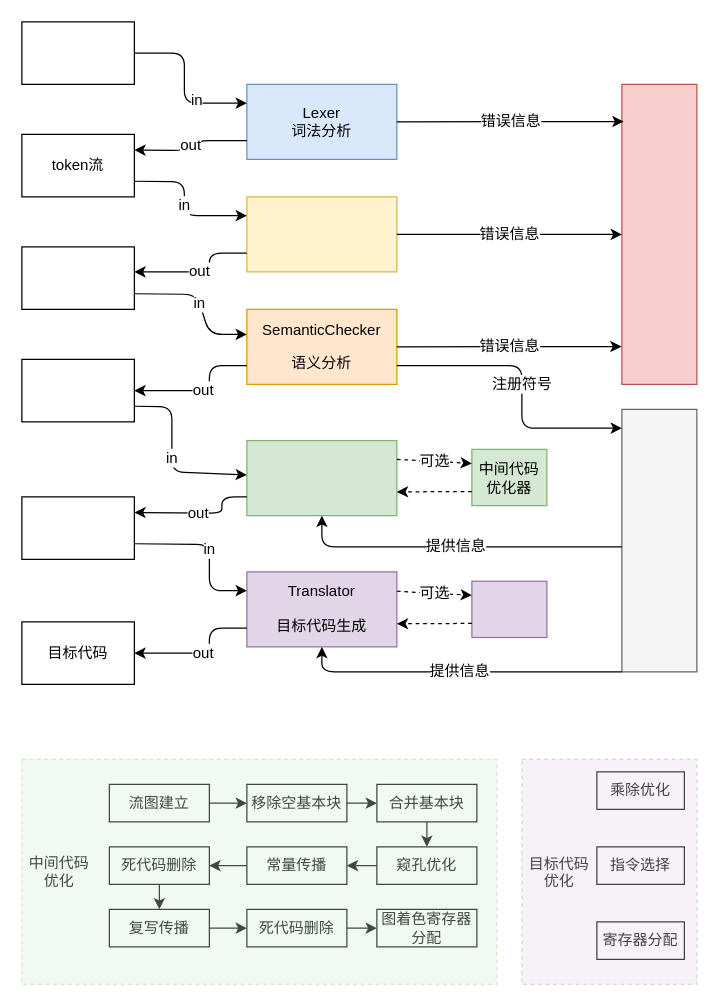
Image size: 719x1006. Some labels were removed from this diagram. Each missing label, with the centre of its shape:
MidCodeGenerator 中间代码生成: point (321, 477)
Parser 语法分析: point (321, 234)
中间代码: point (77, 527)
全局错误表: point (659, 233)
具体语法树: point (77, 277)
抽象语法树: point (77, 390)
源代码: point (77, 52)
目标代码优化器: point (509, 609)
符号表: point (659, 540)
